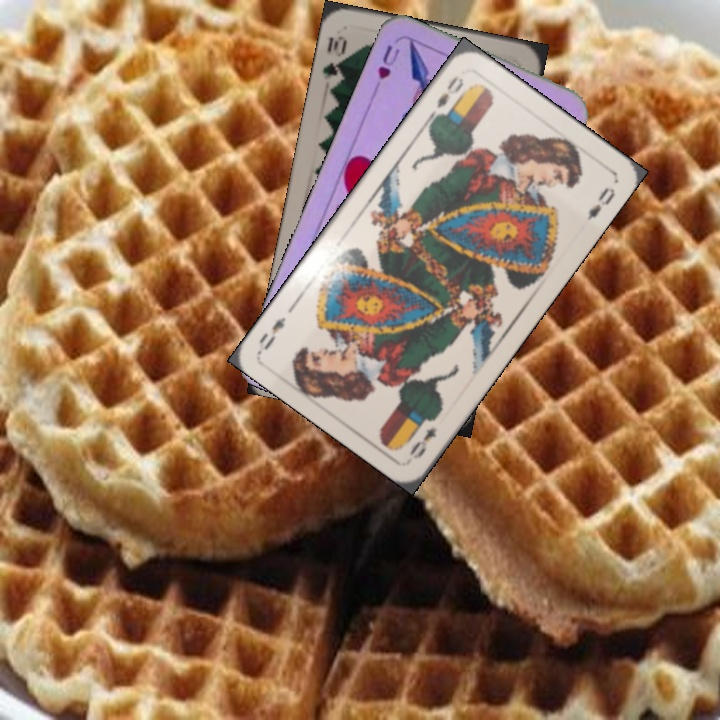EO: (427, 71, 466, 120), (405, 423, 440, 462)
G10: (318, 31, 350, 88)
HU: (373, 40, 403, 82)
